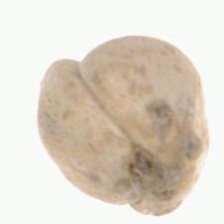L1: (120, 167, 194, 215)
L2: (36, 35, 209, 216)
